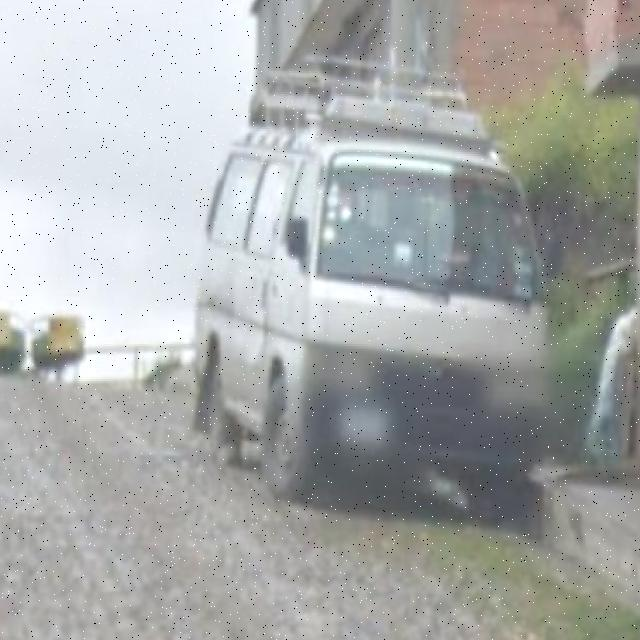car: (183, 106, 557, 518)
